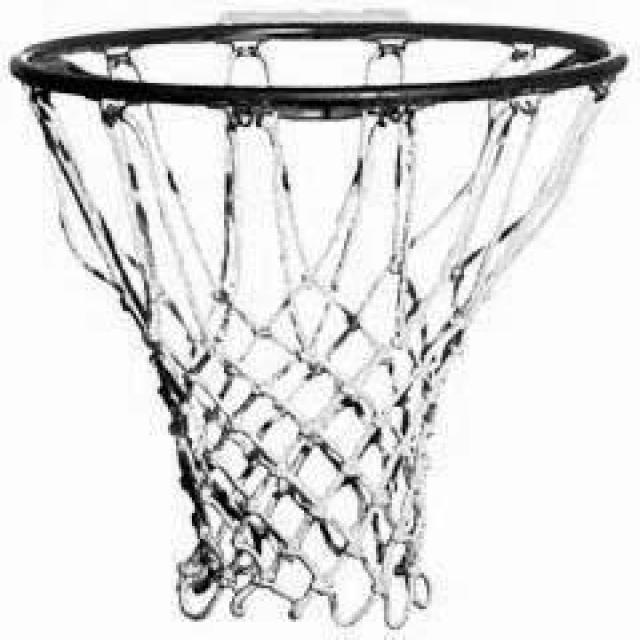hoop: (10, 7, 640, 640)
